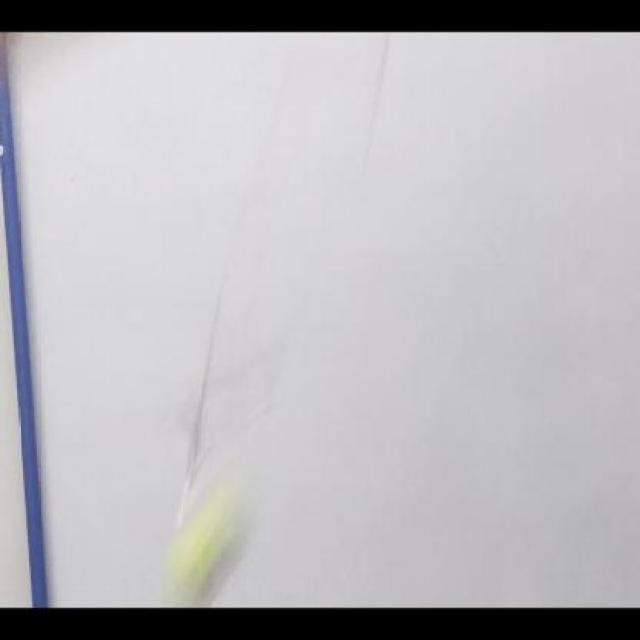baseball: (161, 490, 259, 596)
